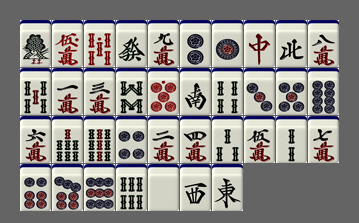0m: (52, 20, 83, 67)
0p: (148, 68, 179, 115)
0s: (84, 20, 115, 67)
1m: (52, 68, 83, 115)
1p: (212, 20, 243, 67)
1s: (20, 20, 51, 67)
1z: (212, 164, 243, 211)
2m: (148, 116, 179, 163)
2p: (180, 20, 211, 67)
2s: (276, 116, 307, 163)
2z: (180, 68, 211, 115)
3m: (84, 68, 115, 115)
3p: (244, 68, 275, 115)
3s: (212, 116, 243, 163)
3z: (180, 164, 211, 211)
4m: (180, 116, 211, 163)
4p: (116, 116, 147, 163)
4s: (212, 68, 243, 115)
4z: (276, 20, 307, 67)
5m: (244, 116, 275, 163)
5p: (276, 68, 307, 115)
5s: (20, 68, 51, 115)
5z: (148, 164, 179, 211)
6m: (20, 116, 51, 163)
6p: (20, 164, 51, 211)
6s: (116, 164, 147, 211)
6z: (116, 20, 147, 67)
7m: (308, 116, 339, 163)
7p: (52, 164, 83, 211)
7s: (52, 116, 83, 163)
7z: (244, 20, 275, 67)
8m: (308, 20, 339, 67)
8p: (308, 68, 339, 115)
8s: (116, 68, 147, 115)
9m: (148, 20, 179, 67)
9p: (84, 164, 115, 211)
9s: (84, 116, 115, 163)
